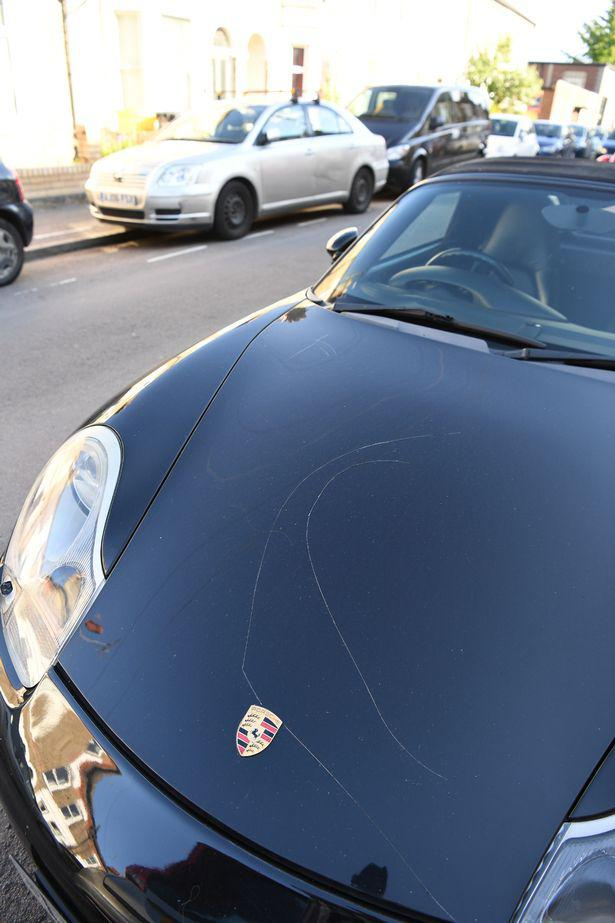bonnet-dent: (58, 326, 578, 857)
